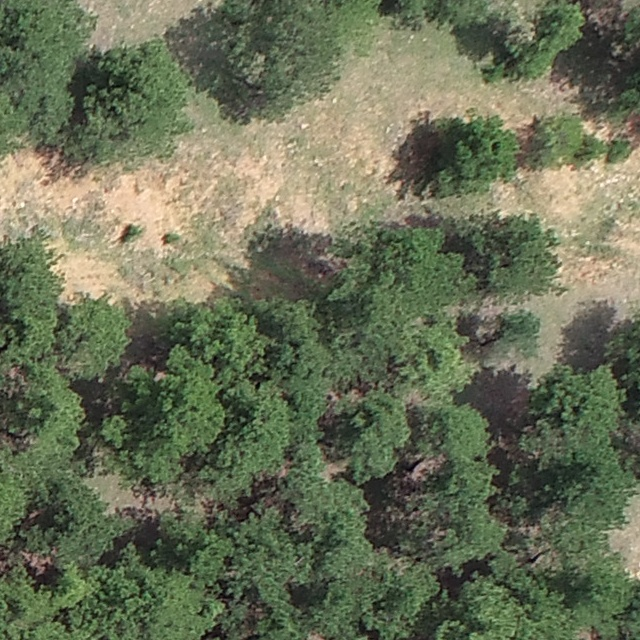unhealthy: (572, 627, 599, 640)
